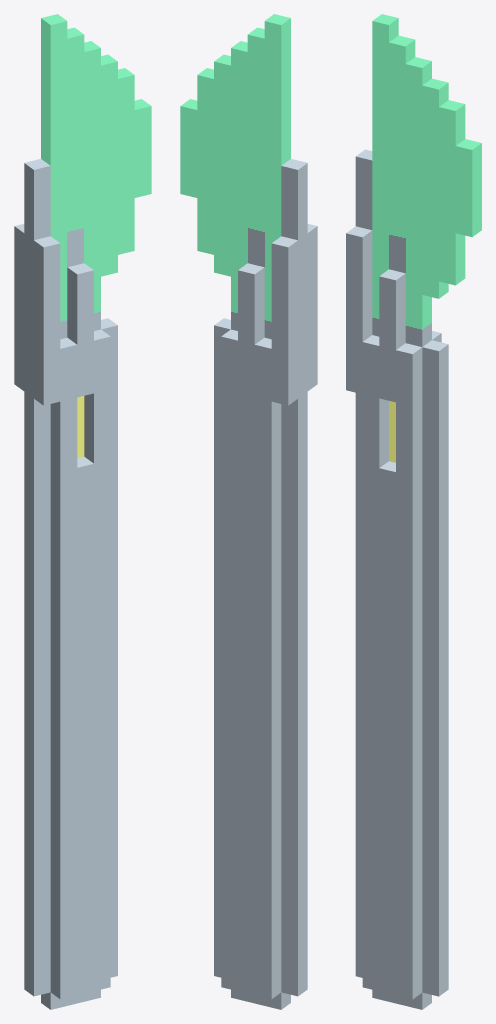
File: skalpel.dae
3 views of the same model, side by side, from view 1: azimuth 30°, elevation 25°; view 2: azimuth 150°, elevation 25°; view 3: azimuth 330°, elevation 25° (orthographic).
Visible parts, largest first — view 1: Content; view 2: Content; view 3: Content.
Part boxes in pixels (x1,y1,x2,y2): Content: (14, 14, 151, 1009); Content: (180, 14, 317, 1009); Content: (346, 14, 481, 1009).
Size of the model in its own units: 7 by 56 by 3.
1 material, 1 textured.
